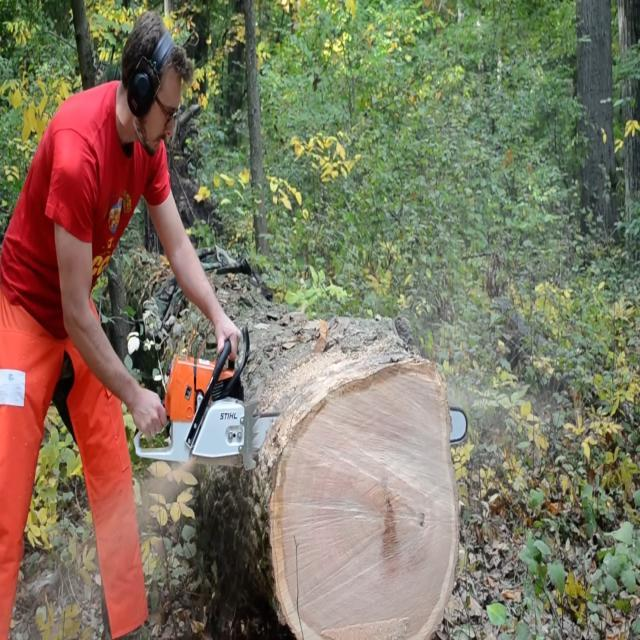Chainsaw: (115, 308, 480, 492)
